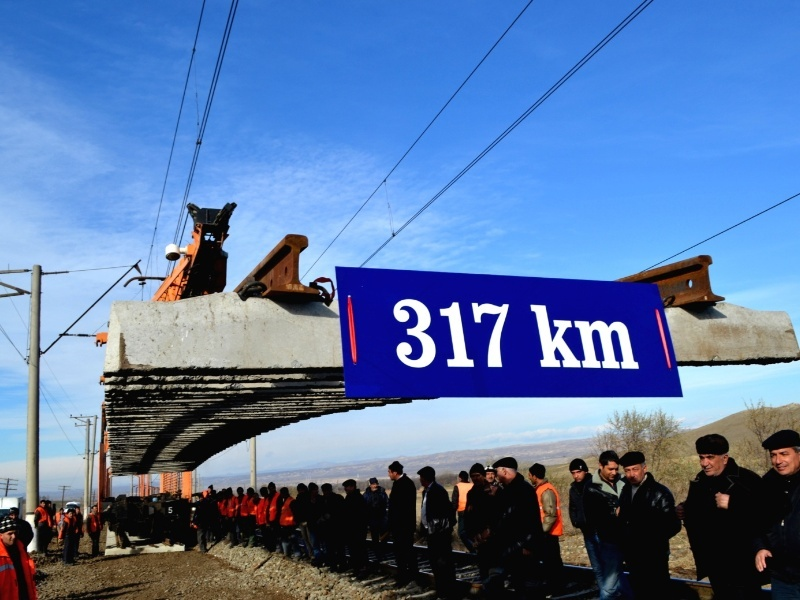text: (401, 298, 416, 370), (417, 298, 432, 370), (433, 298, 448, 370), (449, 298, 464, 370), (465, 298, 480, 370), (481, 298, 496, 370), (497, 298, 511, 370), (529, 304, 544, 370), (545, 304, 560, 370), (561, 304, 576, 370), (577, 304, 592, 370), (593, 304, 608, 370), (609, 304, 624, 370), (625, 304, 639, 370), (392, 298, 400, 370)
